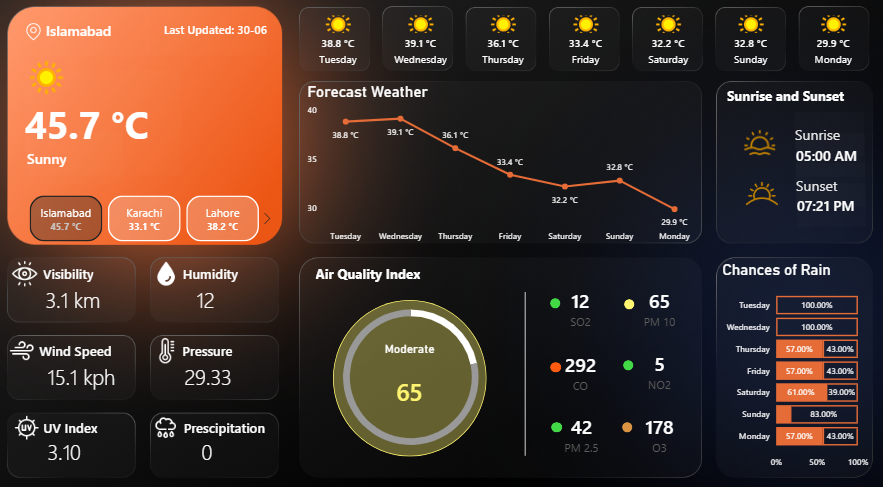

What the dashboard file says about the page in this screenshot:
{"tool":"powerbi","page":{"name":"Page 1","canvas":[1280,720],"ordinal":0},"visuals":[{"type":"shape","box":[487.9,437.9,217.6,221.7],"z":0},{"type":"advancedSlicerVisual","fields":{"Values":["Locations.location.name"]},"box":[32.9,284.6,377.6,75.8],"z":1000},{"type":"shape","box":[51.5,112,220.2,150.2],"z":2000},{"type":"shape","box":[54.3,199.2,135.9,74.4],"z":3000},{"type":"shape","box":[80.1,19.1,145.9,74.4],"z":4000},{"type":"shape","box":[221.7,17.2,173.1,74.4],"z":5000},{"type":"image","box":[51.5,31.9,24.3,50.1],"z":6000},{"type":"cardVisual","fields":{"Data":["Min(Current Data.current.condition.icon)"]},"box":[10,65.8,143,115.8],"z":7000},{"type":"image","box":[11.4,492,70.1,35.8],"z":8000},{"type":"image","box":[15.7,383.3,70.1,35.8],"z":9000},{"type":"image","box":[231.7,383.3,40,35.8],"z":10000},{"type":"image","box":[18.6,600.7,70.1,35.8],"z":11000},{"type":"image","box":[217.4,492,70.1,35.8],"z":12000},{"type":"image","box":[216,600.7,70.1,35.8],"z":13000},{"type":"shape","box":[51.5,383.3,123,35.8],"z":14000},{"type":"shape","box":[251.7,383.3,123,35.8],"z":15000},{"type":"shape","box":[61.5,492,123,35.8],"z":16000},{"type":"shape","box":[54.3,600.7,123,35.8],"z":17000},{"type":"shape","box":[247.4,492,123,35.8],"z":18000},{"type":"shape","box":[271.7,600.7,123,35.8],"z":19000},{"type":"cardVisual","fields":{"Data":["Sum(Current Data.current.humidity)"]},"box":[264.6,360.4,220.2,150.2],"z":20000},{"type":"cardVisual","fields":{"Data":["Sum(Current Data.current.pressure_in)"]},"box":[247.4,469.1,220.2,150.2],"z":21000},{"type":"cardVisual","fields":{"Data":["Sum(Current Data.current.precip_in)"]},"box":[271.7,580.6,220.2,138.7],"z":22000},{"type":"cardVisual","fields":{"Data":["_Measures.Visibility in km"]},"box":[51.5,360.4,220.2,150.2],"z":23000},{"type":"cardVisual","fields":{"Data":["_Measures._Speed in kph"]},"box":[54.3,469.1,220.2,150.2],"z":24000},{"type":"cardVisual","fields":{"Data":["Sum(Current Data.current.uv)"]},"box":[54.3,580.6,220.2,138.7],"z":25000},{"type":"advancedSlicerVisual","fields":{"Values":["Forecast Data by Days.Day_Name"]},"box":[434.8,28.6,826.6,95.8],"z":26000},{"type":"lineChart","title":"Forecast Weather","fields":{"Category":["Forecast Data by Days.Day_Name"],"Y":["Sum(Forecast Data by Days.forecast.forecastday.day.avgtemp_c)"]},"box":[446.5,130.4,561.3,235.3],"z":27000},{"type":"shape","box":[1016.2,123.3,225.4,51],"z":28000},{"type":"shape","box":[1143.8,201.3,97.8,62.4],"z":29000},{"type":"shape","box":[1144.4,243.3,97.8,62.4],"z":30000},{"type":"shape","box":[1142.4,171.9,97.8,62.4],"z":31000},{"type":"shape","box":[1145.8,272,97.8,62.4],"z":32000},{"type":"image","box":[1064.4,192.8,55.3,43.9],"z":33000},{"type":"image","box":[1063,256.5,65.2,60.9],"z":34000},{"type":"hundredPercentStackedBarChart","title":"Chances of Rain","fields":{"Category":["Forecast Data by Days.Day_Name"],"Y":["Sum(Forecast Data by Days.forecast.forecastday.day.daily_chance_of_rain)","_Measures.Left_Value_Of_Rain"]},"box":[1034.6,382.7,216.9,303.3],"z":35000},{"type":"shape","box":[435.1,375.6,204.1,51],"z":36000},{"type":"cardVisual","title":"PM 10","fields":{"Data":["Sum(Current Data.current.air_quality.pm10)"]},"box":[894.8,403.3,112.2,90.6],"z":37000},{"type":"cardVisual","title":"PM 10","fields":{"Data":["Sum(Current Data.current.air_quality.so2)"]},"box":[782.6,403.3,112.2,90.6],"z":38000},{"type":"cardVisual","title":"PM 10","fields":{"Data":["Sum(Current Data.current.air_quality.co)"]},"box":[782.6,495.2,112.2,90.6],"z":39000},{"type":"cardVisual","title":"PM 10","fields":{"Data":["Sum(Current Data.current.air_quality.pm2_5)"]},"box":[783.9,583,112.2,90.6],"z":40000},{"type":"cardVisual","title":"PM 10","fields":{"Data":["Sum(Current Data.current.air_quality.no2)"]},"box":[894.8,493.8,112.2,90.6],"z":41000},{"type":"cardVisual","title":"PM 10","fields":{"Data":["Sum(Current Data.current.air_quality.o3)"]},"box":[894.8,583,112.2,90.6],"z":42000},{"type":"shape","box":[795.8,435.7,14.9,14.9],"z":43000},{"type":"shape","box":[796.1,611.4,16.2,14.9],"z":44000},{"type":"shape","box":[900.2,437.1,14.9,14.9],"z":45000},{"type":"shape","box":[898.8,523.6,14.9,14.9],"z":46000},{"type":"shape","box":[897.5,611.4,14.9,14.9],"z":47000},{"type":"shape","box":[794.8,526.3,16.2,14.9],"z":48000},{"type":"shape","box":[724.5,427.1,71.6,232.5],"z":49000},{"type":"donutChart","fields":{"Y":["Sum(Current Data.current.air_quality.pm10)","_Measures.Left_value_PM10"]},"box":[446,423.1,302.8,250.1],"z":50000},{"type":"cardVisual","fields":{"Data":["Sum(Current Data.current.air_quality.pm10)"]},"box":[527.1,497.4,137.9,116.2],"z":51000}]}

Visuals, with their boxes in screenshot pixels (x1, y1, x2, y2), scaled from the page's 1280x720 canvas onto the 883x487 screenshot:
shape: l=337, t=296, r=487, b=446
advancedSlicerVisual - Locations.location.name: l=23, t=193, r=283, b=244
shape: l=36, t=76, r=187, b=177
shape: l=37, t=135, r=131, b=185
shape: l=55, t=13, r=156, b=63
shape: l=153, t=12, r=272, b=62
image: l=36, t=22, r=52, b=55
cardVisual - Min(Current Data.current.condition.icon): l=7, t=45, r=106, b=123
image: l=8, t=333, r=56, b=357
image: l=11, t=259, r=59, b=283
image: l=160, t=259, r=187, b=283
image: l=13, t=406, r=61, b=431
image: l=150, t=333, r=198, b=357
image: l=149, t=406, r=197, b=431
shape: l=36, t=259, r=120, b=283
shape: l=174, t=259, r=258, b=283
shape: l=42, t=333, r=127, b=357
shape: l=37, t=406, r=122, b=431
shape: l=171, t=333, r=256, b=357
shape: l=187, t=406, r=272, b=431
cardVisual - Sum(Current Data.current.humidity): l=183, t=244, r=334, b=345
cardVisual - Sum(Current Data.current.pressure_in): l=171, t=317, r=323, b=419
cardVisual - Sum(Current Data.current.precip_in): l=187, t=393, r=339, b=486
cardVisual - _Measures.Visibility in km: l=36, t=244, r=187, b=345
cardVisual - _Measures._Speed in kph: l=37, t=317, r=189, b=419
cardVisual - Sum(Current Data.current.uv): l=37, t=393, r=189, b=486
advancedSlicerVisual - Forecast Data by Days.Day_Name: l=300, t=19, r=870, b=84
"Forecast Weather" lineChart: l=308, t=88, r=695, b=247
shape: l=701, t=83, r=857, b=118
shape: l=789, t=136, r=857, b=178
shape: l=789, t=165, r=857, b=207
shape: l=788, t=116, r=856, b=158
shape: l=790, t=184, r=858, b=226
image: l=734, t=130, r=772, b=160
image: l=733, t=173, r=778, b=215
"Chances of Rain" hundredPercentStackedBarChart: l=714, t=259, r=863, b=464
shape: l=300, t=254, r=441, b=289
"PM 10" cardVisual: l=617, t=273, r=695, b=334
"PM 10" cardVisual: l=540, t=273, r=617, b=334
"PM 10" cardVisual: l=540, t=335, r=617, b=396
"PM 10" cardVisual: l=541, t=394, r=618, b=456
"PM 10" cardVisual: l=617, t=334, r=695, b=395
"PM 10" cardVisual: l=617, t=394, r=695, b=456
shape: l=549, t=295, r=559, b=305
shape: l=549, t=414, r=560, b=424
shape: l=621, t=296, r=631, b=306
shape: l=620, t=354, r=630, b=364
shape: l=619, t=414, r=629, b=424
shape: l=548, t=356, r=559, b=366
shape: l=500, t=289, r=549, b=446
donutChart - Sum(Current Data.current.air_quality.pm10) x _Measures.Left_value_PM10: l=308, t=286, r=517, b=455
cardVisual - Sum(Current Data.current.air_quality.pm10): l=364, t=336, r=459, b=415
